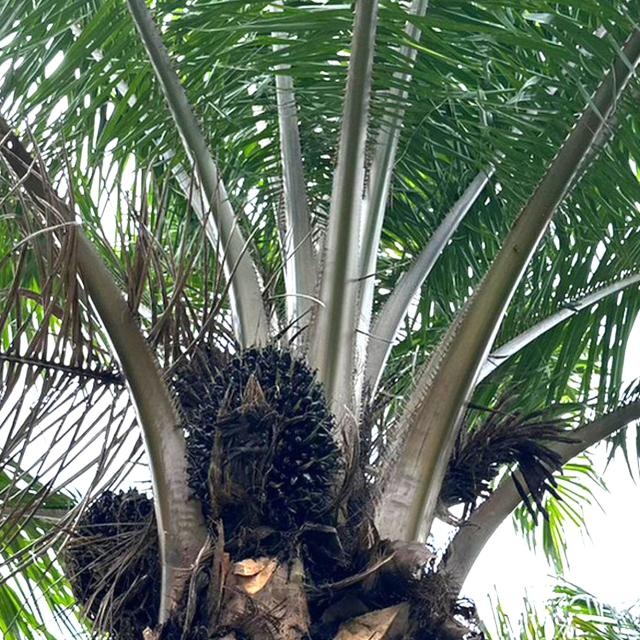unripe: (177, 334, 350, 539), (62, 488, 167, 638)
